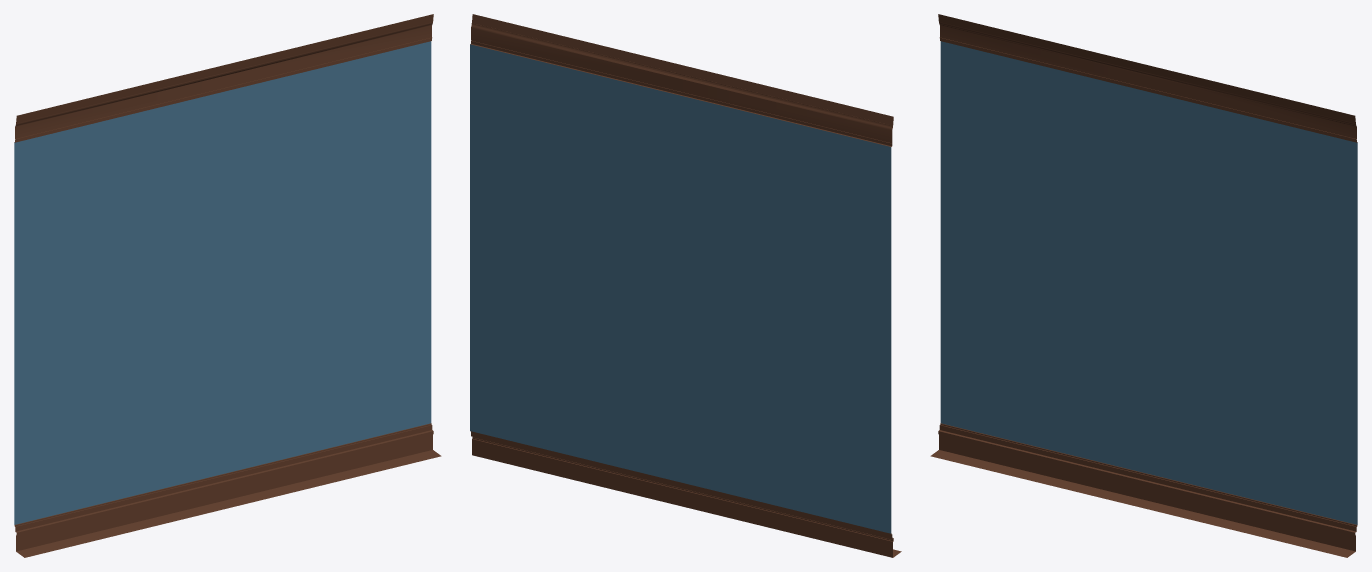
File: Tile03_fix01.fbx
The picture shows the model from 3 angles, left to right: view 1: azimuth 30°, elevation 25°; view 2: azimuth 150°, elevation 25°; view 3: azimuth 330°, elevation 25°; orthographic projection.
Visible parts, largest first — view 1: Tile3; view 2: Tile3; view 3: Tile3.
Part boxes in pixels (x1,y1,x2,y2): Tile3: (14, 14, 441, 557); Tile3: (470, 14, 901, 557); Tile3: (930, 14, 1357, 557).
Size of the model in its own units: 775 by 775 by 33.87.
